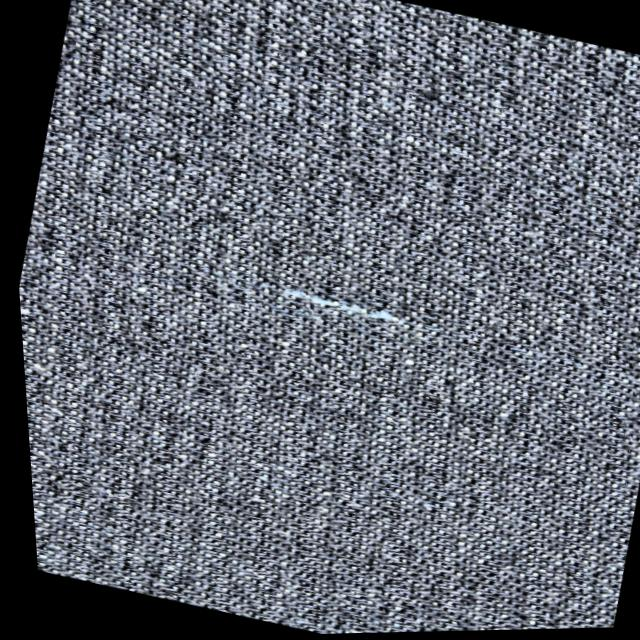Hole: (258, 272, 432, 347)
